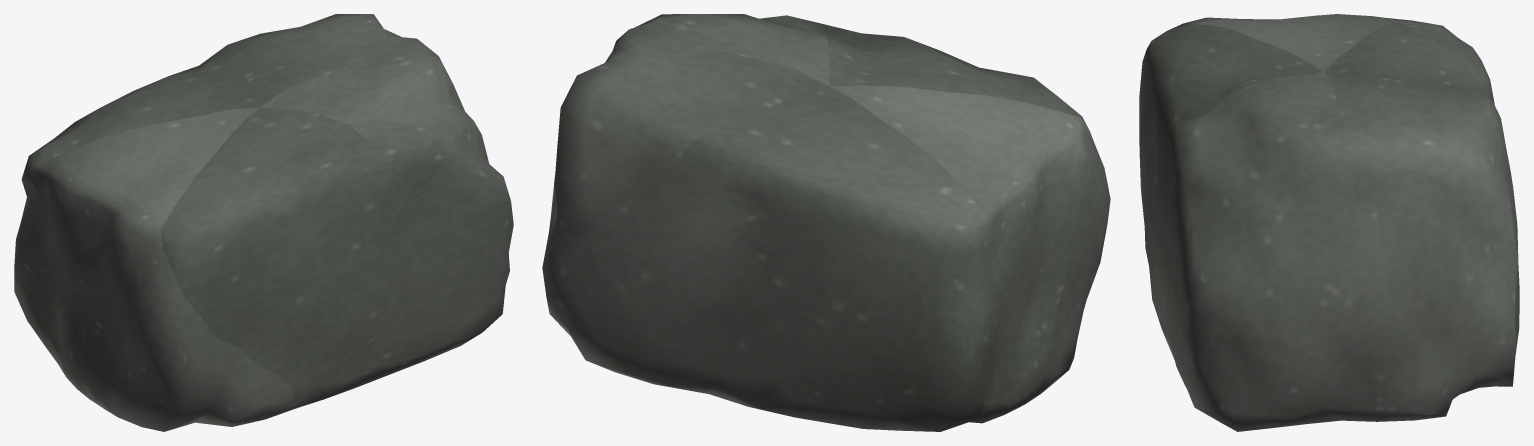
Rendered from NaturalRock_02_BroadAngular.fbx.
3 views of the same model, side by side, from view 1: azimuth 30°, elevation 25°; view 2: azimuth 150°, elevation 25°; view 3: azimuth 270°, elevation 25° (orthographic). The views are drawn at different scales.
Visible parts, largest first — view 1: Rock_Main.001; view 2: Rock_Main.001; view 3: Rock_Main.001.
Boxes of the visible parts, x1=… form: Rock_Main.001: x1=14, y1=14, x2=513, y2=431; Rock_Main.001: x1=542, y1=14, x2=1110, y2=431; Rock_Main.001: x1=1139, y1=14, x2=1519, y2=431.
Bounding box in the file's own units: 2.36 × 1.49 × 1.76.
Materials: 1 (1 with a texture image).
